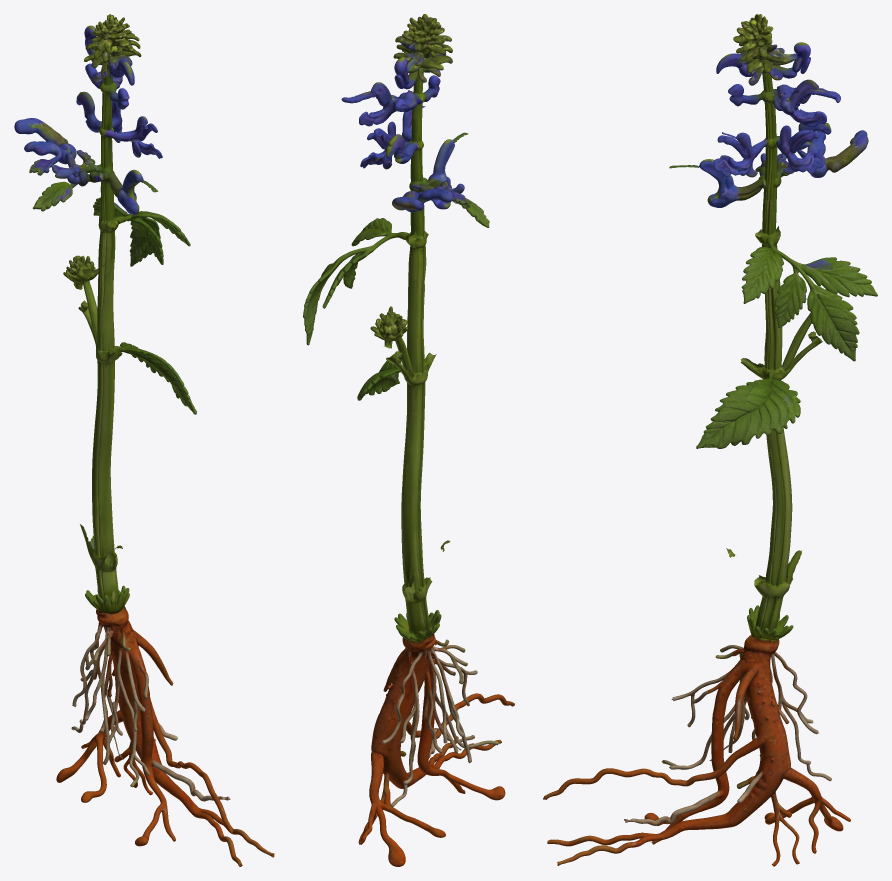
The model's file is 药用植物_萝根_mid.glb.
3 views of the same model, side by side, from view 1: azimuth 30°, elevation 25°; view 2: azimuth 150°, elevation 25°; view 3: azimuth 270°, elevation 25° (orthographic). The views are drawn at different scales.
Visible parts, largest first — view 1: tripo_part_0, tripo_part_1, tripo_part_12, tripo_part_20, tripo_part_26; view 2: tripo_part_0, tripo_part_1, tripo_part_12, tripo_part_20, tripo_part_26; view 3: tripo_part_1, tripo_part_0, tripo_part_12, tripo_part_20, tripo_part_26.
Boxes of the visible parts, <box> form: tripo_part_0: <box>56,585,274,866</box>; tripo_part_1: <box>14,25,190,266</box>; tripo_part_12: <box>88,227,196,602</box>; tripo_part_20: <box>84,14,141,68</box>; tripo_part_26: <box>63,255,98,347</box>; tripo_part_0: <box>358,610,514,866</box>; tripo_part_1: <box>303,53,489,345</box>; tripo_part_12: <box>357,243,432,635</box>; tripo_part_20: <box>393,14,452,70</box>; tripo_part_26: <box>370,306,414,384</box>; tripo_part_1: <box>669,42,877,361</box>; tripo_part_0: <box>543,605,850,866</box>; tripo_part_12: <box>696,244,800,633</box>; tripo_part_20: <box>733,14,777,73</box>; tripo_part_26: <box>782,289,826,376</box>.
Size of the model in its own units: 0.1921 by 1 by 0.3664.
Materials: 8 (8 with a texture image).
